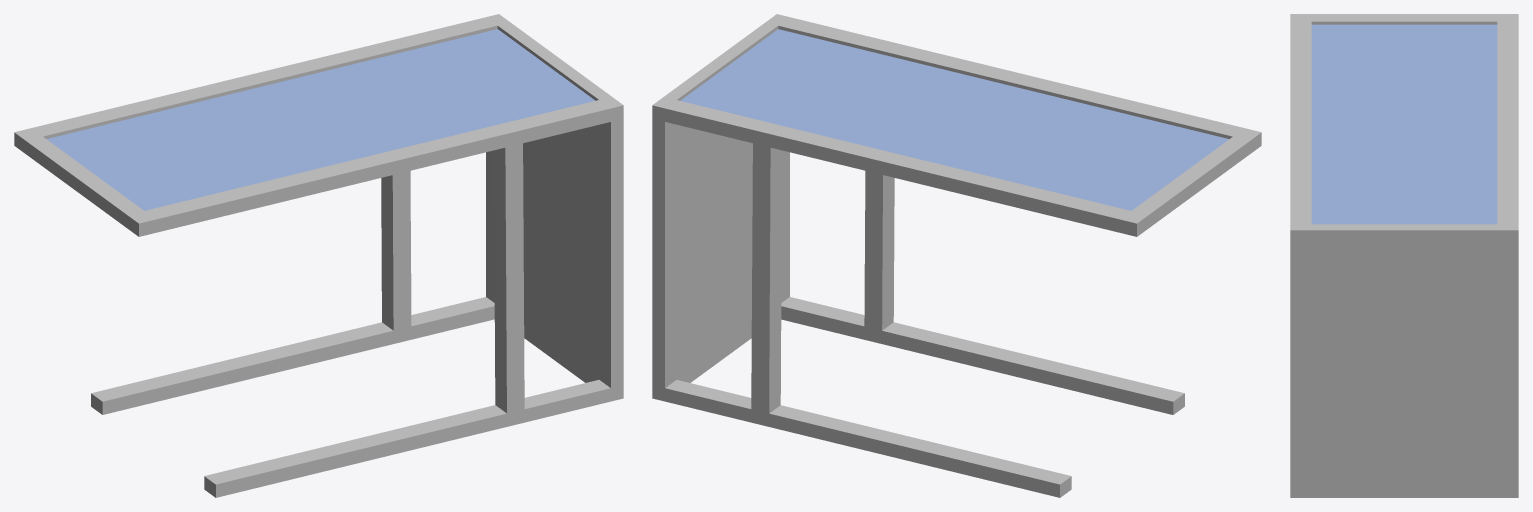
Rendered from SM_Table_01_A.gltf.
3 views of the same model, side by side, from view 1: azimuth 30°, elevation 25°; view 2: azimuth 150°, elevation 25°; view 3: azimuth 270°, elevation 25° (orthographic). The views are drawn at different scales.
Parts seen in each view (by area): view 1: Table_01_A; view 2: Table_01_A; view 3: Table_01_A.
Part boxes in pixels (<box>): Table_01_A: <box>14,14,623,497</box>; Table_01_A: <box>652,14,1261,497</box>; Table_01_A: <box>1290,14,1518,497</box>.
Size of the model in its own units: 1.2 by 0.6915 by 0.5337.
